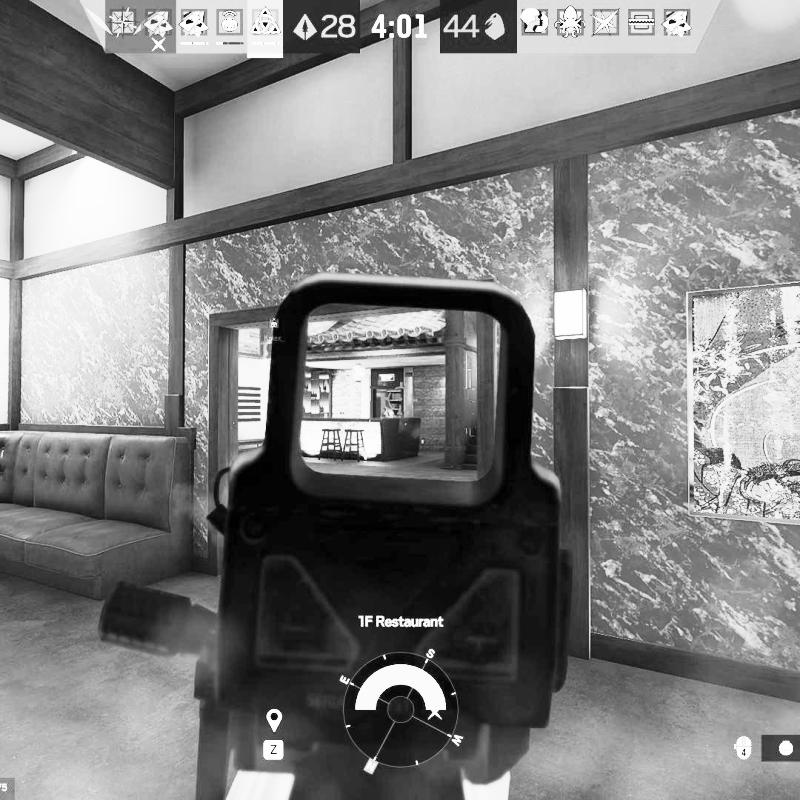Character: (381, 406, 395, 417)
Friend_label: (261, 318, 286, 342)
